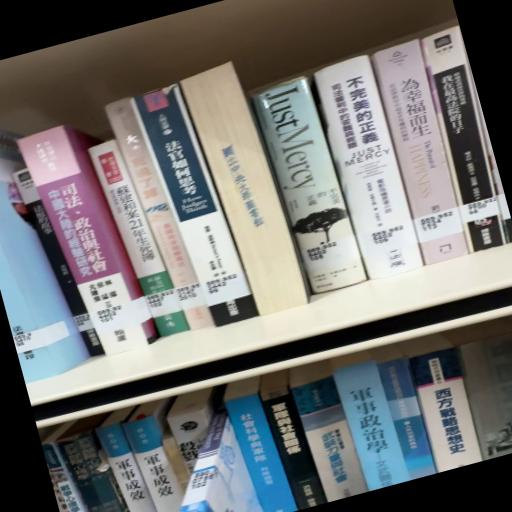backward: (176, 56, 310, 321)
book: (19, 120, 162, 369), (134, 76, 262, 331), (306, 52, 424, 283), (1, 101, 94, 389), (254, 78, 373, 303), (369, 36, 477, 265), (86, 129, 190, 349)
